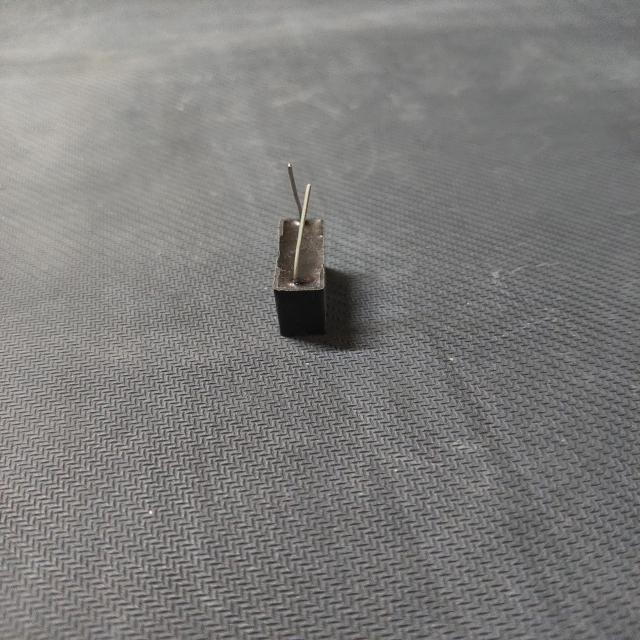capacitor: (252, 155, 346, 348)
